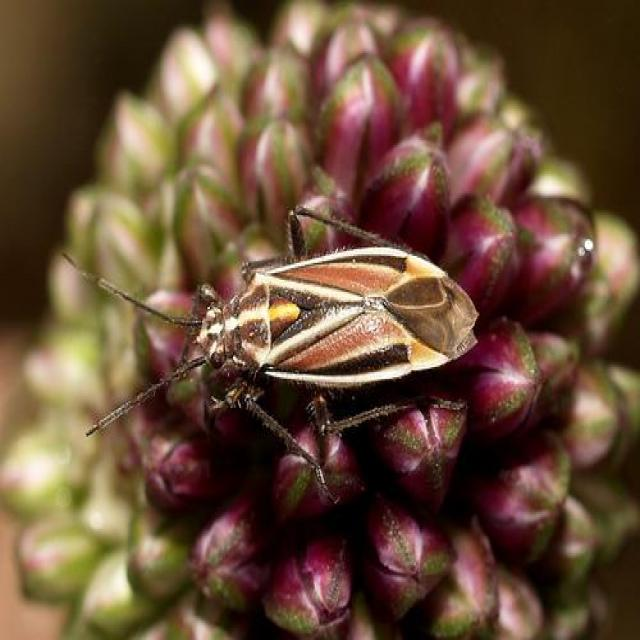Miridae-Adult-: (59, 210, 490, 488)
